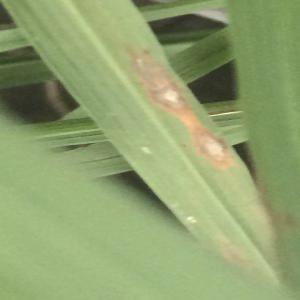1 RiceBlast: (121, 41, 194, 117), (186, 125, 238, 170)
